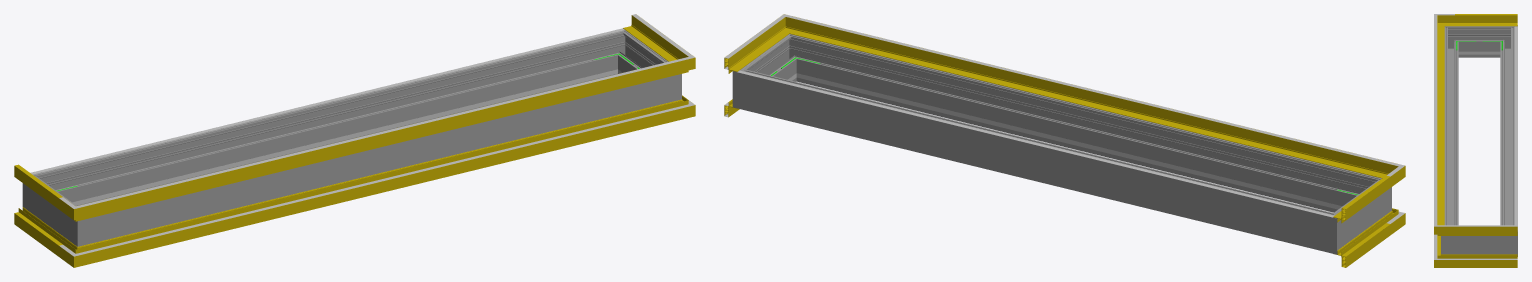
3 renders of one model, left to right at view 1: azimuth 30°, elevation 25°; view 2: azimuth 150°, elevation 25°; view 3: azimuth 270°, elevation 25°, orthographic. The views are drawn at different scales.
Visible parts, largest first — view 1: 3DGeom-276, 3DGeom-298, 3DGeom-90, 3DGeom-56, 3DGeom-244, 3DGeom-220, 3DGeom-66, 3DGeom-100, 3DGeom-270, 3DGeom-85, 3DGeom-284, 3DGeom-58 (+9 smaller); view 2: 3DGeom-298, 3DGeom-276, 3DGeom-56, 3DGeom-239, 3DGeom-220, 3DGeom-66, 3DGeom-278, 3DGeom-284, 3DGeom-85, 3DGeom-58, 3DGeom-290, 3DGeom-297 (+5 smaller); view 3: 3DGeom-276, 3DGeom-298, 3DGeom-56, 3DGeom-268, 3DGeom-97, 3DGeom-220, 3DGeom-66, 3DGeom-50, 3DGeom-297, 3DGeom-58, 3DGeom-284, 3DGeom-290 (+15 smaller).
Boxes of the visible parts, x1=… form: 3DGeom-276: x1=51, y1=35, x2=613, y2=205; 3DGeom-298: x1=103, y1=80, x2=655, y2=240; 3DGeom-90: x1=95, y1=103, x2=669, y2=261; 3DGeom-56: x1=97, y1=64, x2=669, y2=216; 3DGeom-244: x1=81, y1=75, x2=592, y2=204; 3DGeom-220: x1=30, y1=28, x2=624, y2=174; 3DGeom-66: x1=98, y1=62, x2=668, y2=202; 3DGeom-100: x1=98, y1=109, x2=668, y2=250; 3DGeom-270: x1=62, y1=202, x2=103, y2=246; 3DGeom-85: x1=14, y1=207, x2=67, y2=256; 3DGeom-284: x1=603, y1=30, x2=637, y2=74; 3DGeom-58: x1=623, y1=15, x2=676, y2=60; 3DGeom-298: x1=801, y1=39, x2=1363, y2=212; 3DGeom-276: x1=758, y1=74, x2=1315, y2=248; 3DGeom-56: x1=802, y1=22, x2=1377, y2=175; 3DGeom-239: x1=821, y1=79, x2=1332, y2=208; 3DGeom-220: x1=737, y1=70, x2=1334, y2=217; 3DGeom-66: x1=808, y1=20, x2=1378, y2=160; 3DGeom-278: x1=1311, y1=205, x2=1351, y2=254; 3DGeom-284: x1=732, y1=61, x2=763, y2=113; 3DGeom-85: x1=1335, y1=218, x2=1390, y2=267; 3DGeom-58: x1=724, y1=26, x2=781, y2=73; 3DGeom-290: x1=777, y1=34, x2=810, y2=82; 3DGeom-297: x1=752, y1=43, x2=794, y2=81; 3DGeom-276: x1=1500, y1=33, x2=1514, y2=225; 3DGeom-298: x1=1444, y1=33, x2=1458, y2=225; 3DGeom-56: x1=1437, y1=23, x2=1444, y2=225; 3DGeom-268: x1=1462, y1=26, x2=1496, y2=57; 3DGeom-97: x1=1455, y1=254, x2=1517, y2=267; 3DGeom-220: x1=1514, y1=26, x2=1517, y2=230; 3DGeom-66: x1=1434, y1=23, x2=1437, y2=217; 3DGeom-50: x1=1455, y1=15, x2=1517, y2=26; 3DGeom-297: x1=1462, y1=236, x2=1496, y2=254; 3DGeom-58: x1=1455, y1=226, x2=1517, y2=235; 3DGeom-284: x1=1497, y1=223, x2=1517, y2=256; 3DGeom-290: x1=1441, y1=223, x2=1461, y2=254.
Size of the model in its own units: 3.66 by 0.3303 by 0.6096.
